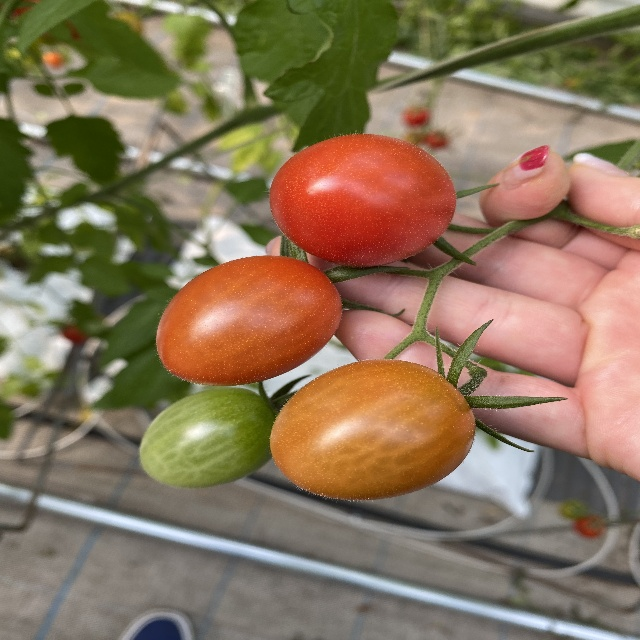l_fully_ripened: (270, 133, 457, 268), (156, 256, 342, 386)
l_green: (139, 386, 275, 488)
l_half_ripened: (271, 359, 476, 502)
